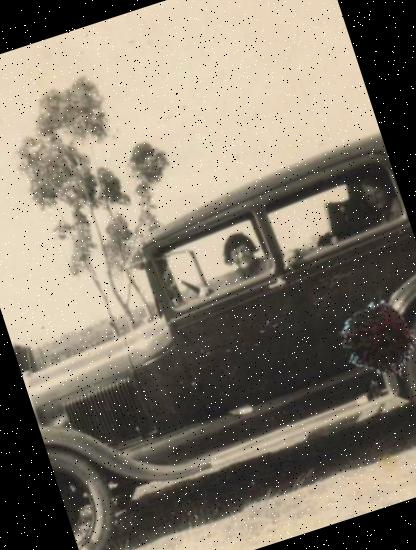Rambutan: (328, 290, 416, 395)
